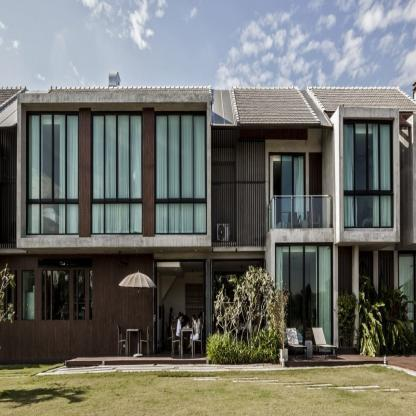Building Outline: (0, 71, 416, 367)
Door: (154, 261, 206, 354), (212, 261, 264, 354), (270, 155, 305, 231)
Floor Slab: (17, 235, 400, 247)
Glass Wall: (276, 246, 332, 352)
Pillar: (142, 108, 155, 238), (79, 108, 91, 238)
Roof: (0, 71, 416, 126)
Window: (21, 102, 207, 238), (27, 115, 78, 233), (92, 115, 142, 233), (155, 115, 205, 233), (344, 117, 395, 230), (344, 123, 394, 228), (399, 254, 414, 346), (53, 271, 69, 320), (23, 271, 34, 320), (78, 271, 85, 320), (6, 271, 12, 320), (42, 271, 45, 320), (47, 271, 50, 320), (74, 271, 76, 320), (90, 271, 92, 320), (15, 271, 17, 320)
